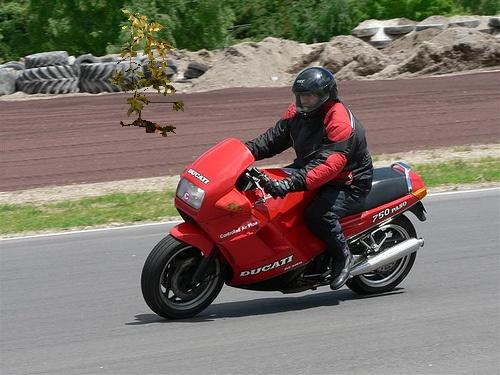tampered: (110, 11, 184, 137)
